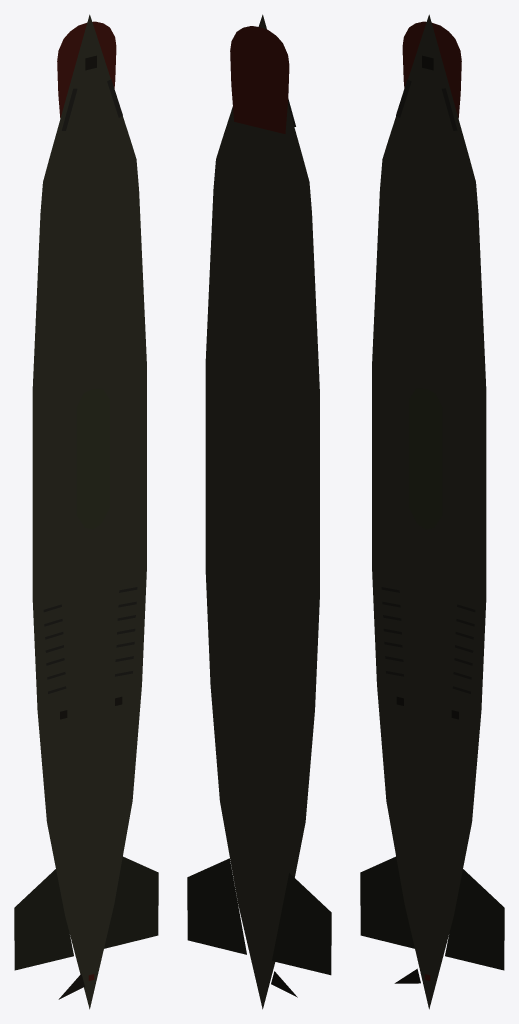
File: kilo.obj
3 renders of one model, left to right at view 1: azimuth 30°, elevation 25°; view 2: azimuth 150°, elevation 25°; view 3: azimuth 330°, elevation 25°, orthographic.
Visible parts, largest first — view 1: main_hull, tower, tail_elevators, tail_elevator_right, bow_bulb; view 2: main_hull, bow_bulb, tail_elevator_right, tail_elevators; view 3: main_hull, tower, tail_elevator_right, tail_elevators, bow_bulb.
Part boxes in pixels (x1=…): main_hull: x1=32, y1=14, x2=146, y2=1009; tower: x1=76, y1=388, x2=109, y2=529; tail_elevators: x1=14, y1=869, x2=73, y2=970; tail_elevator_right: x1=104, y1=856, x2=158, y2=948; bow_bulb: x1=57, y1=21, x2=116, y2=118; main_hull: x1=205, y1=14, x2=319, y2=1009; bow_bulb: x1=230, y1=26, x2=289, y2=133; tail_elevator_right: x1=187, y1=858, x2=246, y2=954; tail_elevators: x1=272, y1=873, x2=331, y2=975; main_hull: x1=372, y1=14, x2=486, y2=1009; tower: x1=409, y1=388, x2=442, y2=529; tail_elevator_right: x1=445, y1=869, x2=504, y2=970; tail_elevators: x1=360, y1=856, x2=414, y2=948; bow_bulb: x1=402, y1=21, x2=461, y2=118.
Size of the model in its own units: 8.72 by 57.37 by 0.7115.
